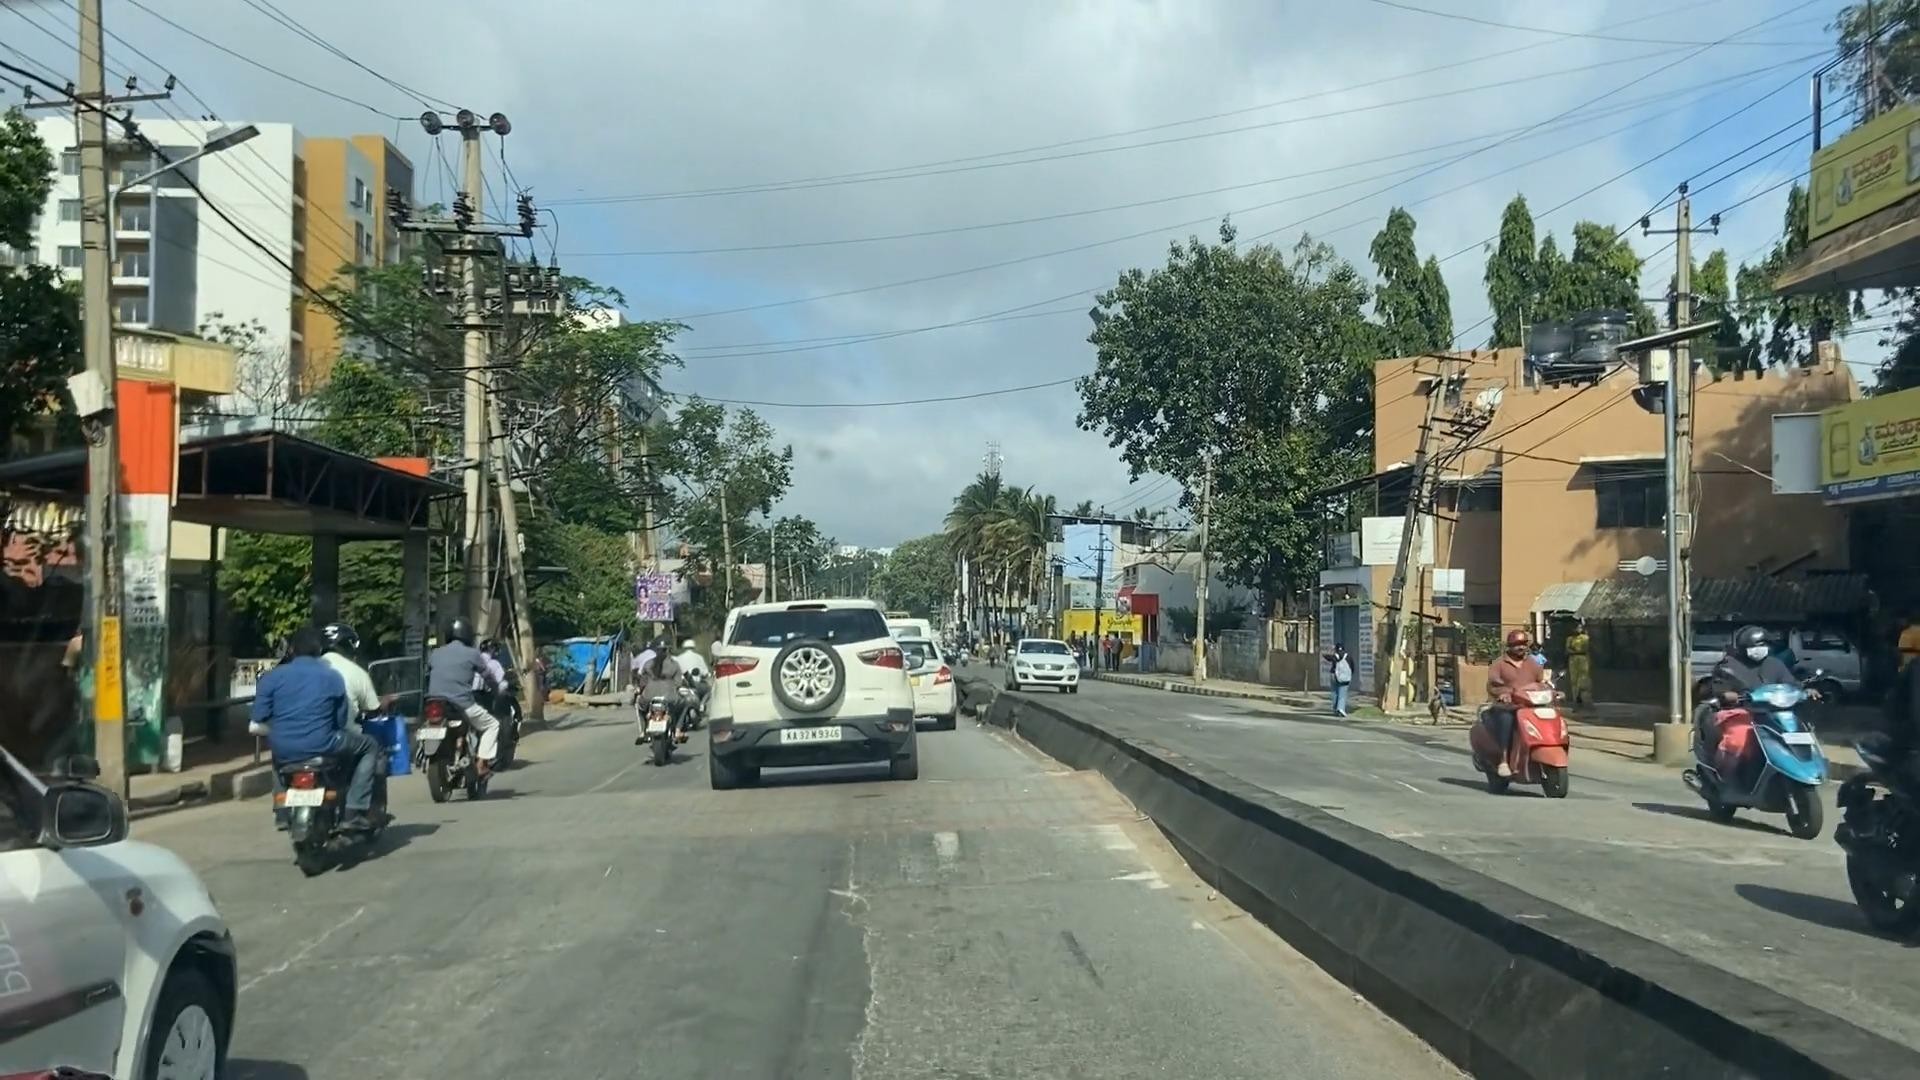LMV: (704, 607, 914, 779), (262, 634, 380, 848), (421, 628, 518, 803), (622, 640, 679, 771)
RoadDamages: (237, 882, 382, 1002), (820, 835, 882, 1080)
SpeedBump: (368, 775, 1204, 893)
